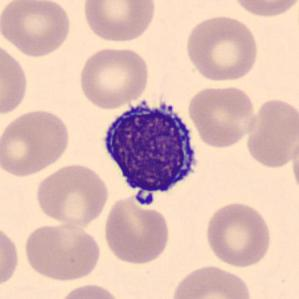Lymphocyte: (97, 94, 204, 207)
Platelets: (134, 190, 156, 208)
RBC: (183, 12, 260, 84), (101, 192, 173, 266), (33, 162, 111, 228), (0, 107, 72, 178), (21, 221, 103, 282), (77, 44, 152, 110), (203, 200, 273, 268), (186, 83, 258, 149), (0, 0, 73, 58), (243, 94, 298, 170), (79, 0, 157, 44), (167, 262, 254, 299), (0, 39, 30, 118), (0, 222, 21, 290), (228, 0, 299, 19), (54, 281, 123, 299), (288, 133, 299, 198)
